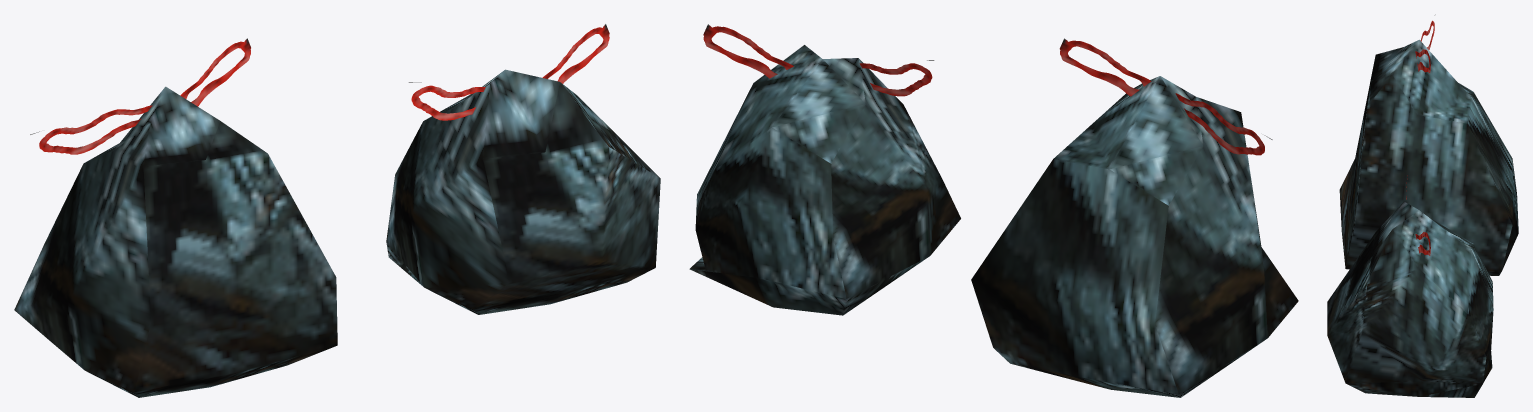
File: GarbageBag.fbx
3 views of the same model, side by side, from view 1: azimuth 30°, elevation 25°; view 2: azimuth 150°, elevation 25°; view 3: azimuth 270°, elevation 25° (orthographic). The views are drawn at different scales.
Visible parts, largest first — view 1: garbage_bag_1, garbage_bag_2; view 2: garbage_bag_1, garbage_bag_2; view 3: garbage_bag_1, garbage_bag_2.
Part boxes in pixels (x1,y1,x2,y2): garbage_bag_1: [14, 38, 337, 397]; garbage_bag_2: [386, 24, 660, 314]; garbage_bag_1: [971, 38, 1298, 397]; garbage_bag_2: [689, 24, 960, 315]; garbage_bag_1: [1339, 14, 1518, 275]; garbage_bag_2: [1327, 175, 1493, 397].
Size of the model in its own units: 639 by 327 by 247.
